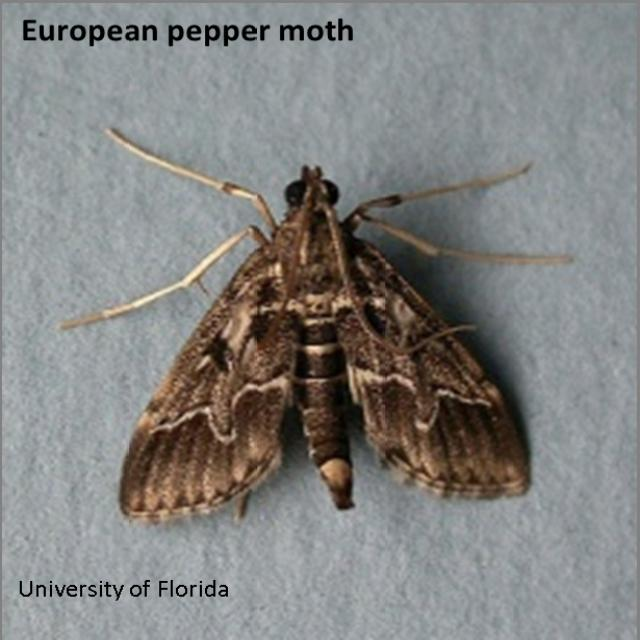cornborer-Adult-: (60, 107, 582, 559)
